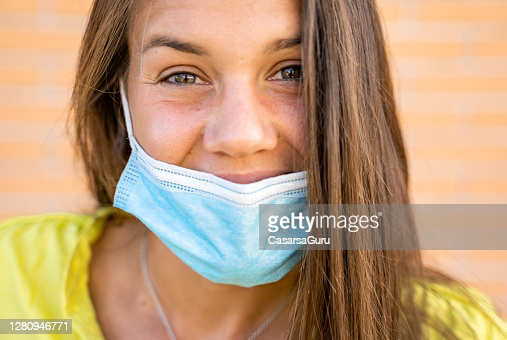mask_weared_incorrect: (117, 30, 330, 281)
